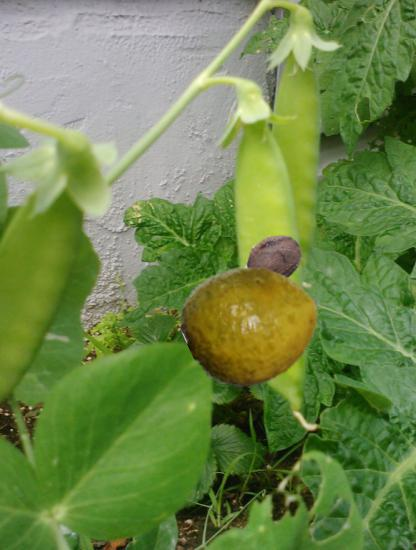Cocos: (246, 231, 304, 289)
Guava: (184, 256, 320, 392)
